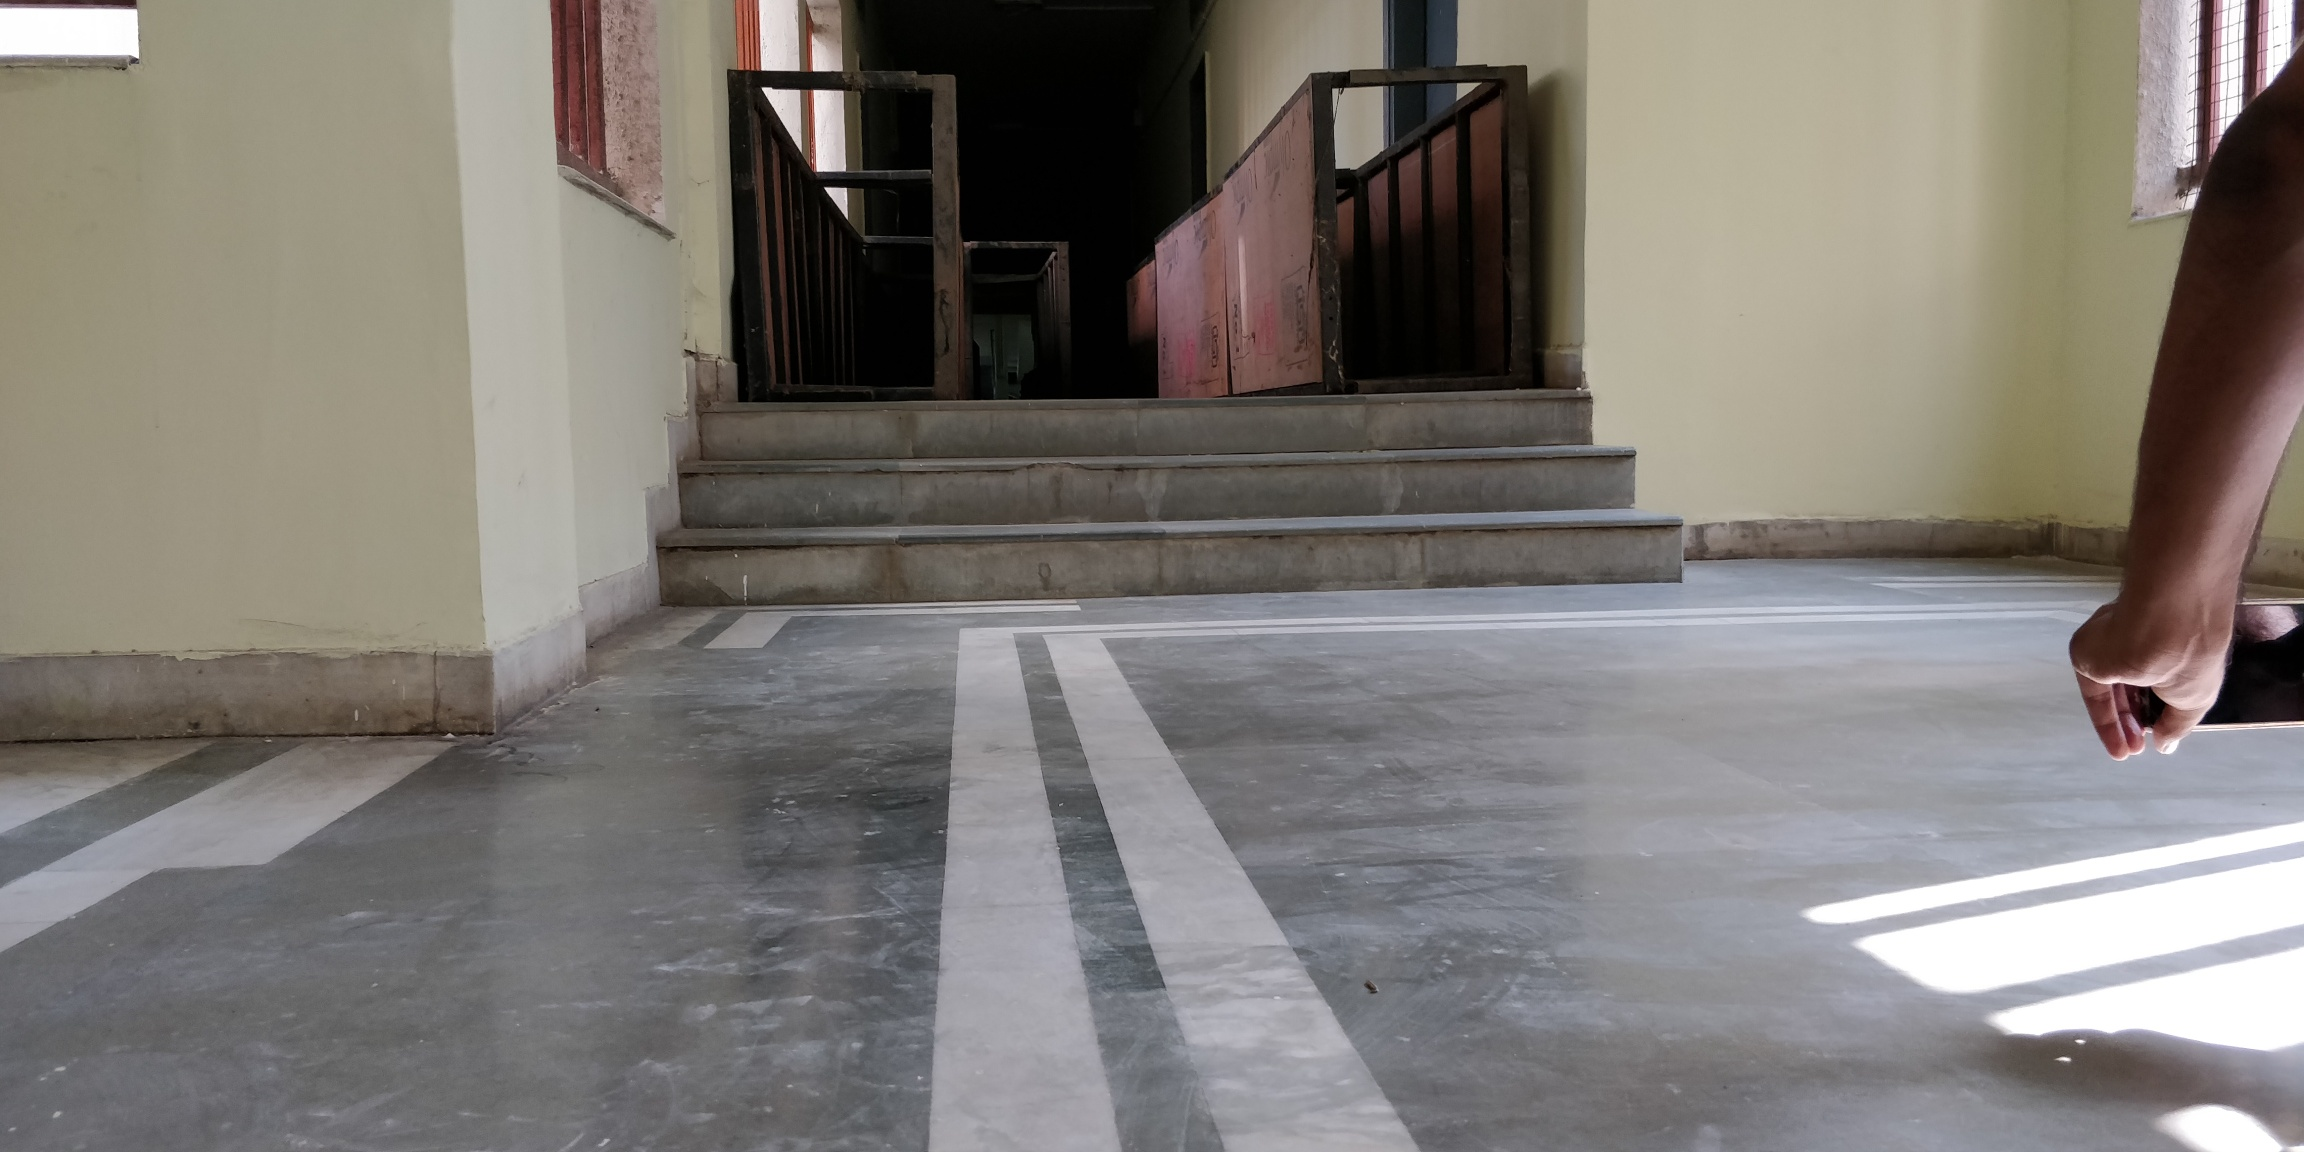stairs_up: (672, 398, 1684, 585)
